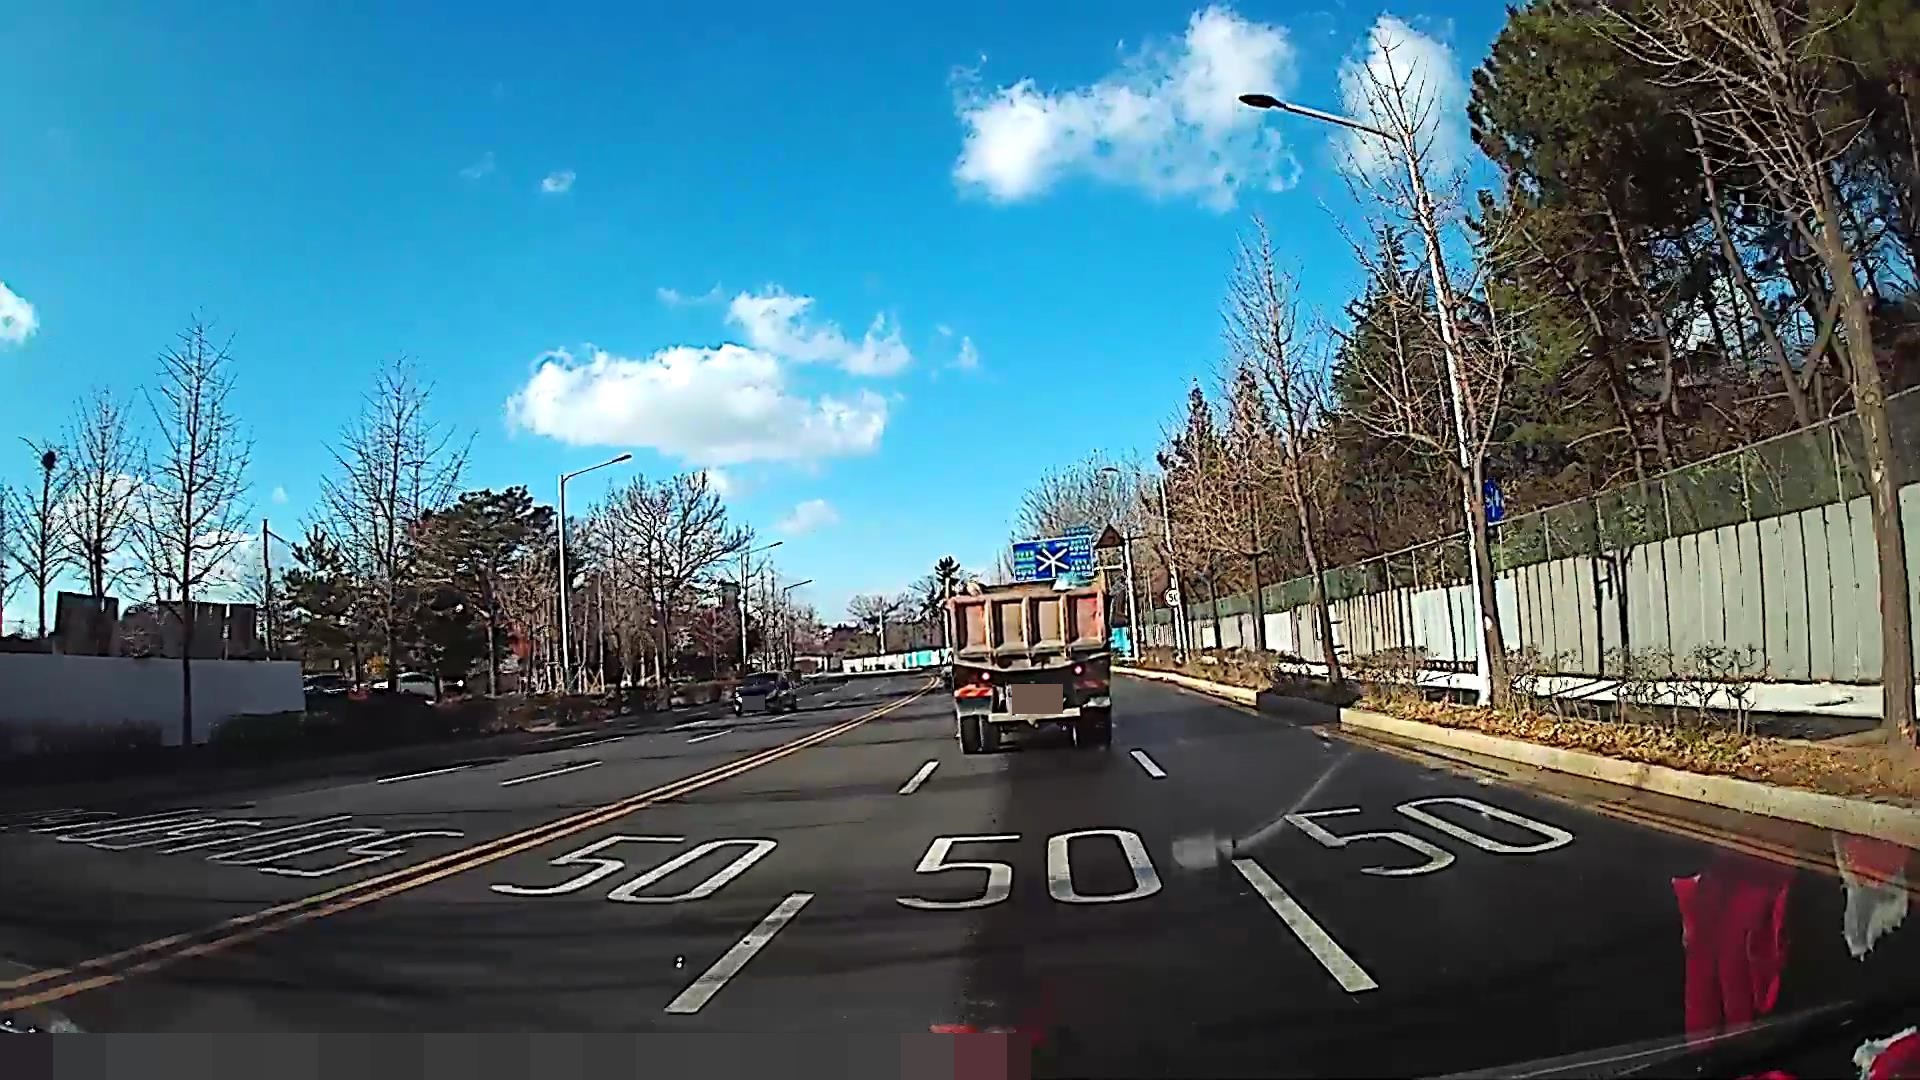불법차량: (945, 565, 1119, 753)
